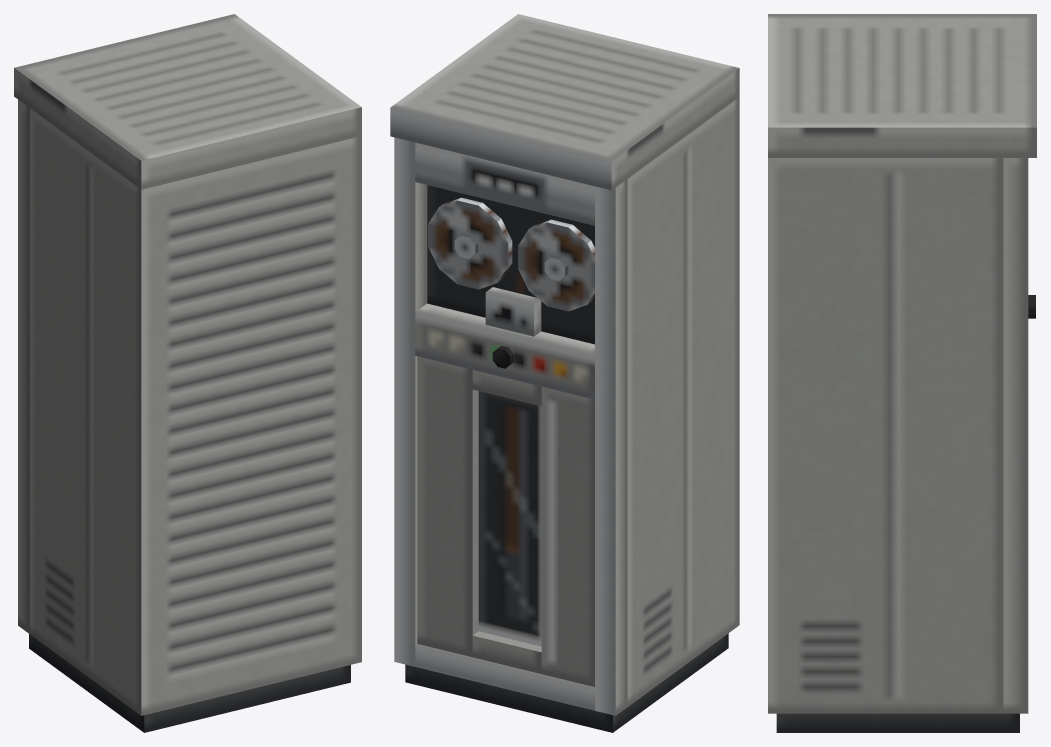
Rendered from era3_tape_drive.obj.
3 views of the same model, side by side, from view 1: azimuth 30°, elevation 25°; view 2: azimuth 150°, elevation 25°; view 3: azimuth 270°, elevation 25° (orthographic). The views are drawn at different scales.
Parts seen in each view (by area): view 1: era3_tape_drive; view 2: era3_tape_drive; view 3: era3_tape_drive.
Boxes of the visible parts, x1,y1,x2,y2 form: era3_tape_drive: (14,14,361,732); era3_tape_drive: (390,14,739,732); era3_tape_drive: (768,14,1036,732).
Size of the model in its own units: 2 by 5 by 2.
